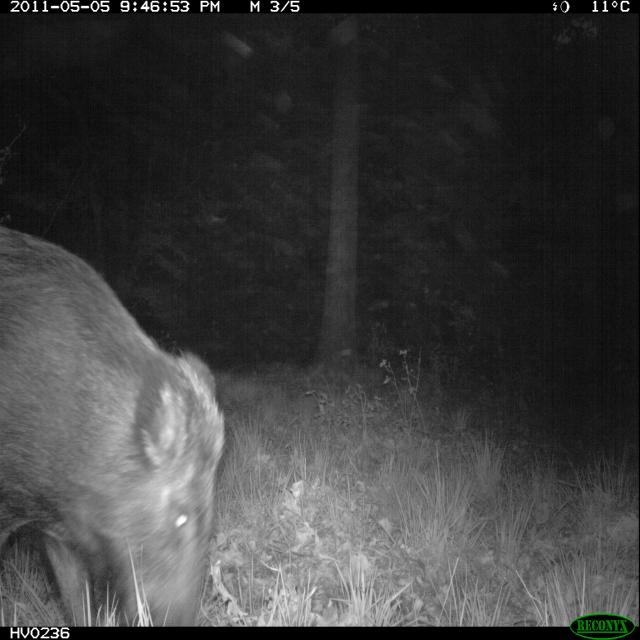boar: (0, 206, 240, 620)
